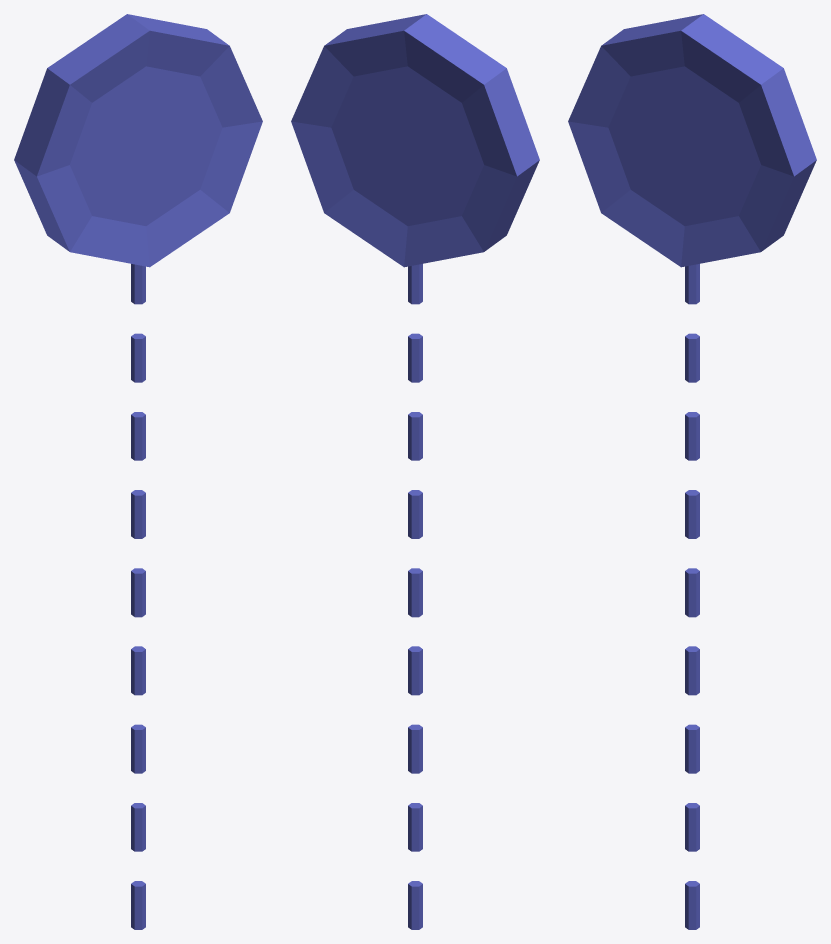
Rendered from coin-blue.gltf.
The picture shows the model from 3 angles, left to right: view 1: azimuth 30°, elevation 25°; view 2: azimuth 150°, elevation 25°; view 3: azimuth 330°, elevation 25°; orthographic projection.
Visible parts, largest first — view 1: Cylinder; view 2: Cylinder; view 3: Cylinder.
Part boxes in pixels (bbox=[...]): Cylinder: bbox=[14, 14, 262, 929]; Cylinder: bbox=[291, 14, 539, 929]; Cylinder: bbox=[568, 14, 816, 929].
Bounding box in the file's own units: 1.01 × 3.85 × 0.1757.
